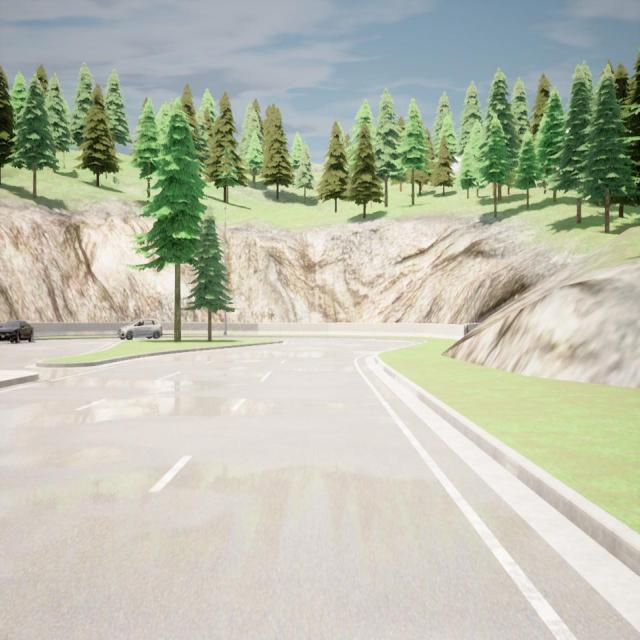Vehicle: (119, 318, 162, 339), (0, 320, 34, 343)
